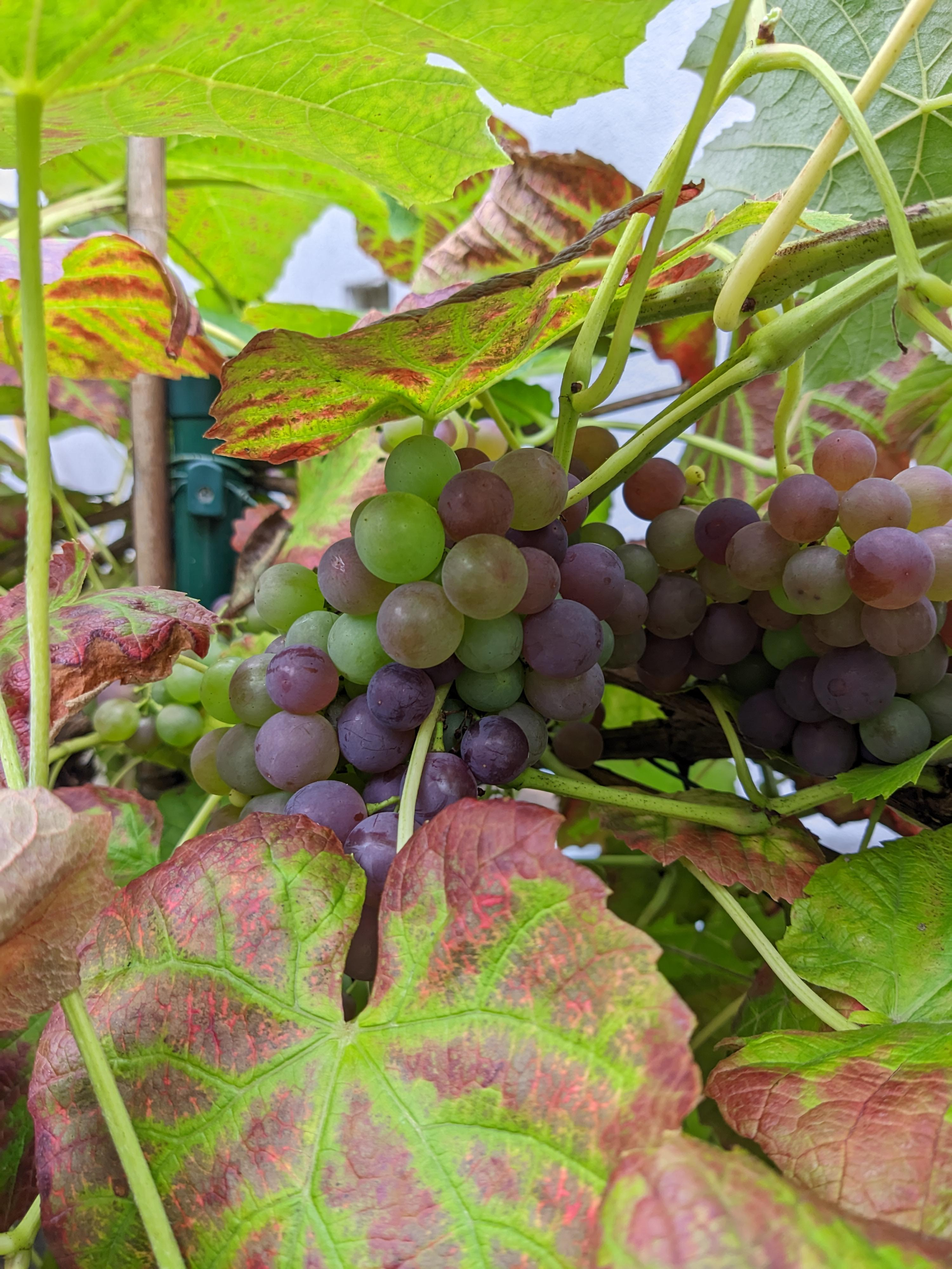Grape Unripe: (191, 394, 622, 870), (628, 394, 952, 818)
